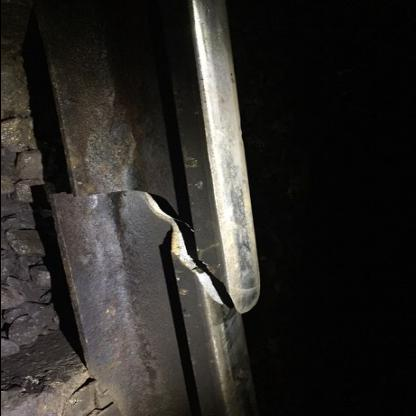Defective: (24, 73, 294, 413)
